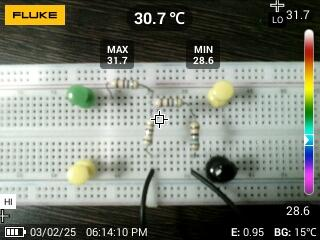resistor: (106, 75, 141, 92), (151, 94, 187, 110), (187, 117, 202, 154), (141, 116, 155, 149)
